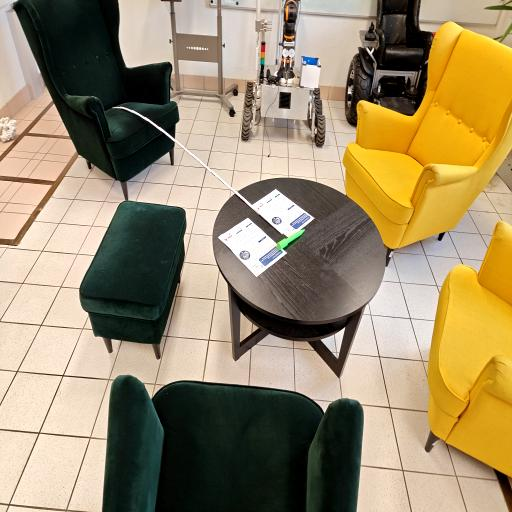Probe-Detection: (277, 229, 305, 250)
